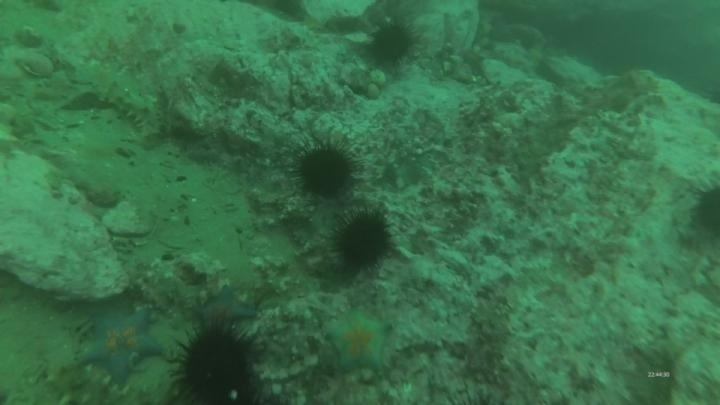echinus: (172, 326, 262, 404), (328, 206, 395, 274), (292, 139, 360, 201), (365, 20, 418, 68), (690, 179, 720, 242)
holothurian: (37, 351, 123, 404), (97, 80, 165, 143)
starfish: (77, 306, 165, 386), (322, 306, 395, 376), (191, 284, 257, 334)
